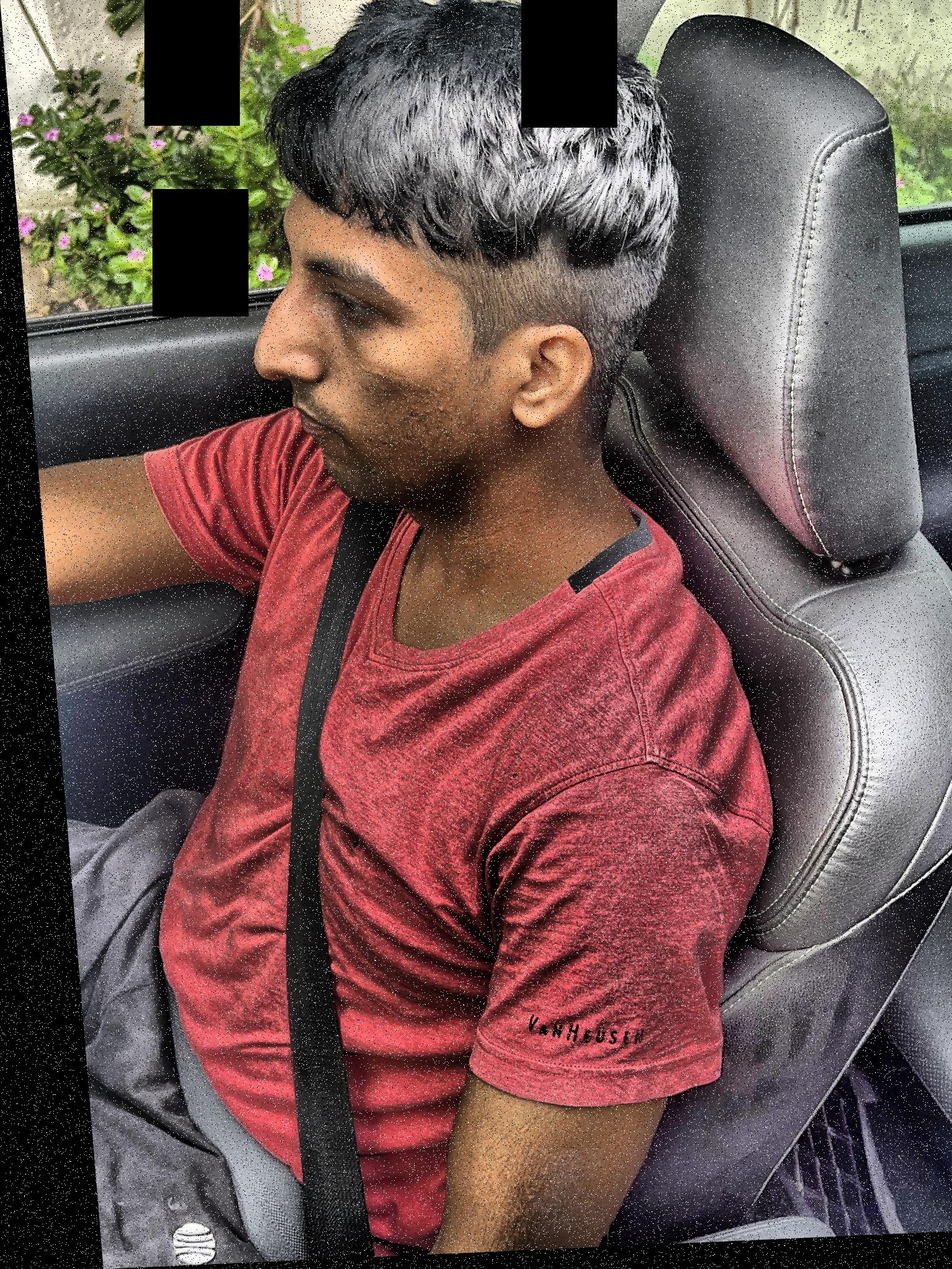seatbelt: (198, 424, 447, 1263)
